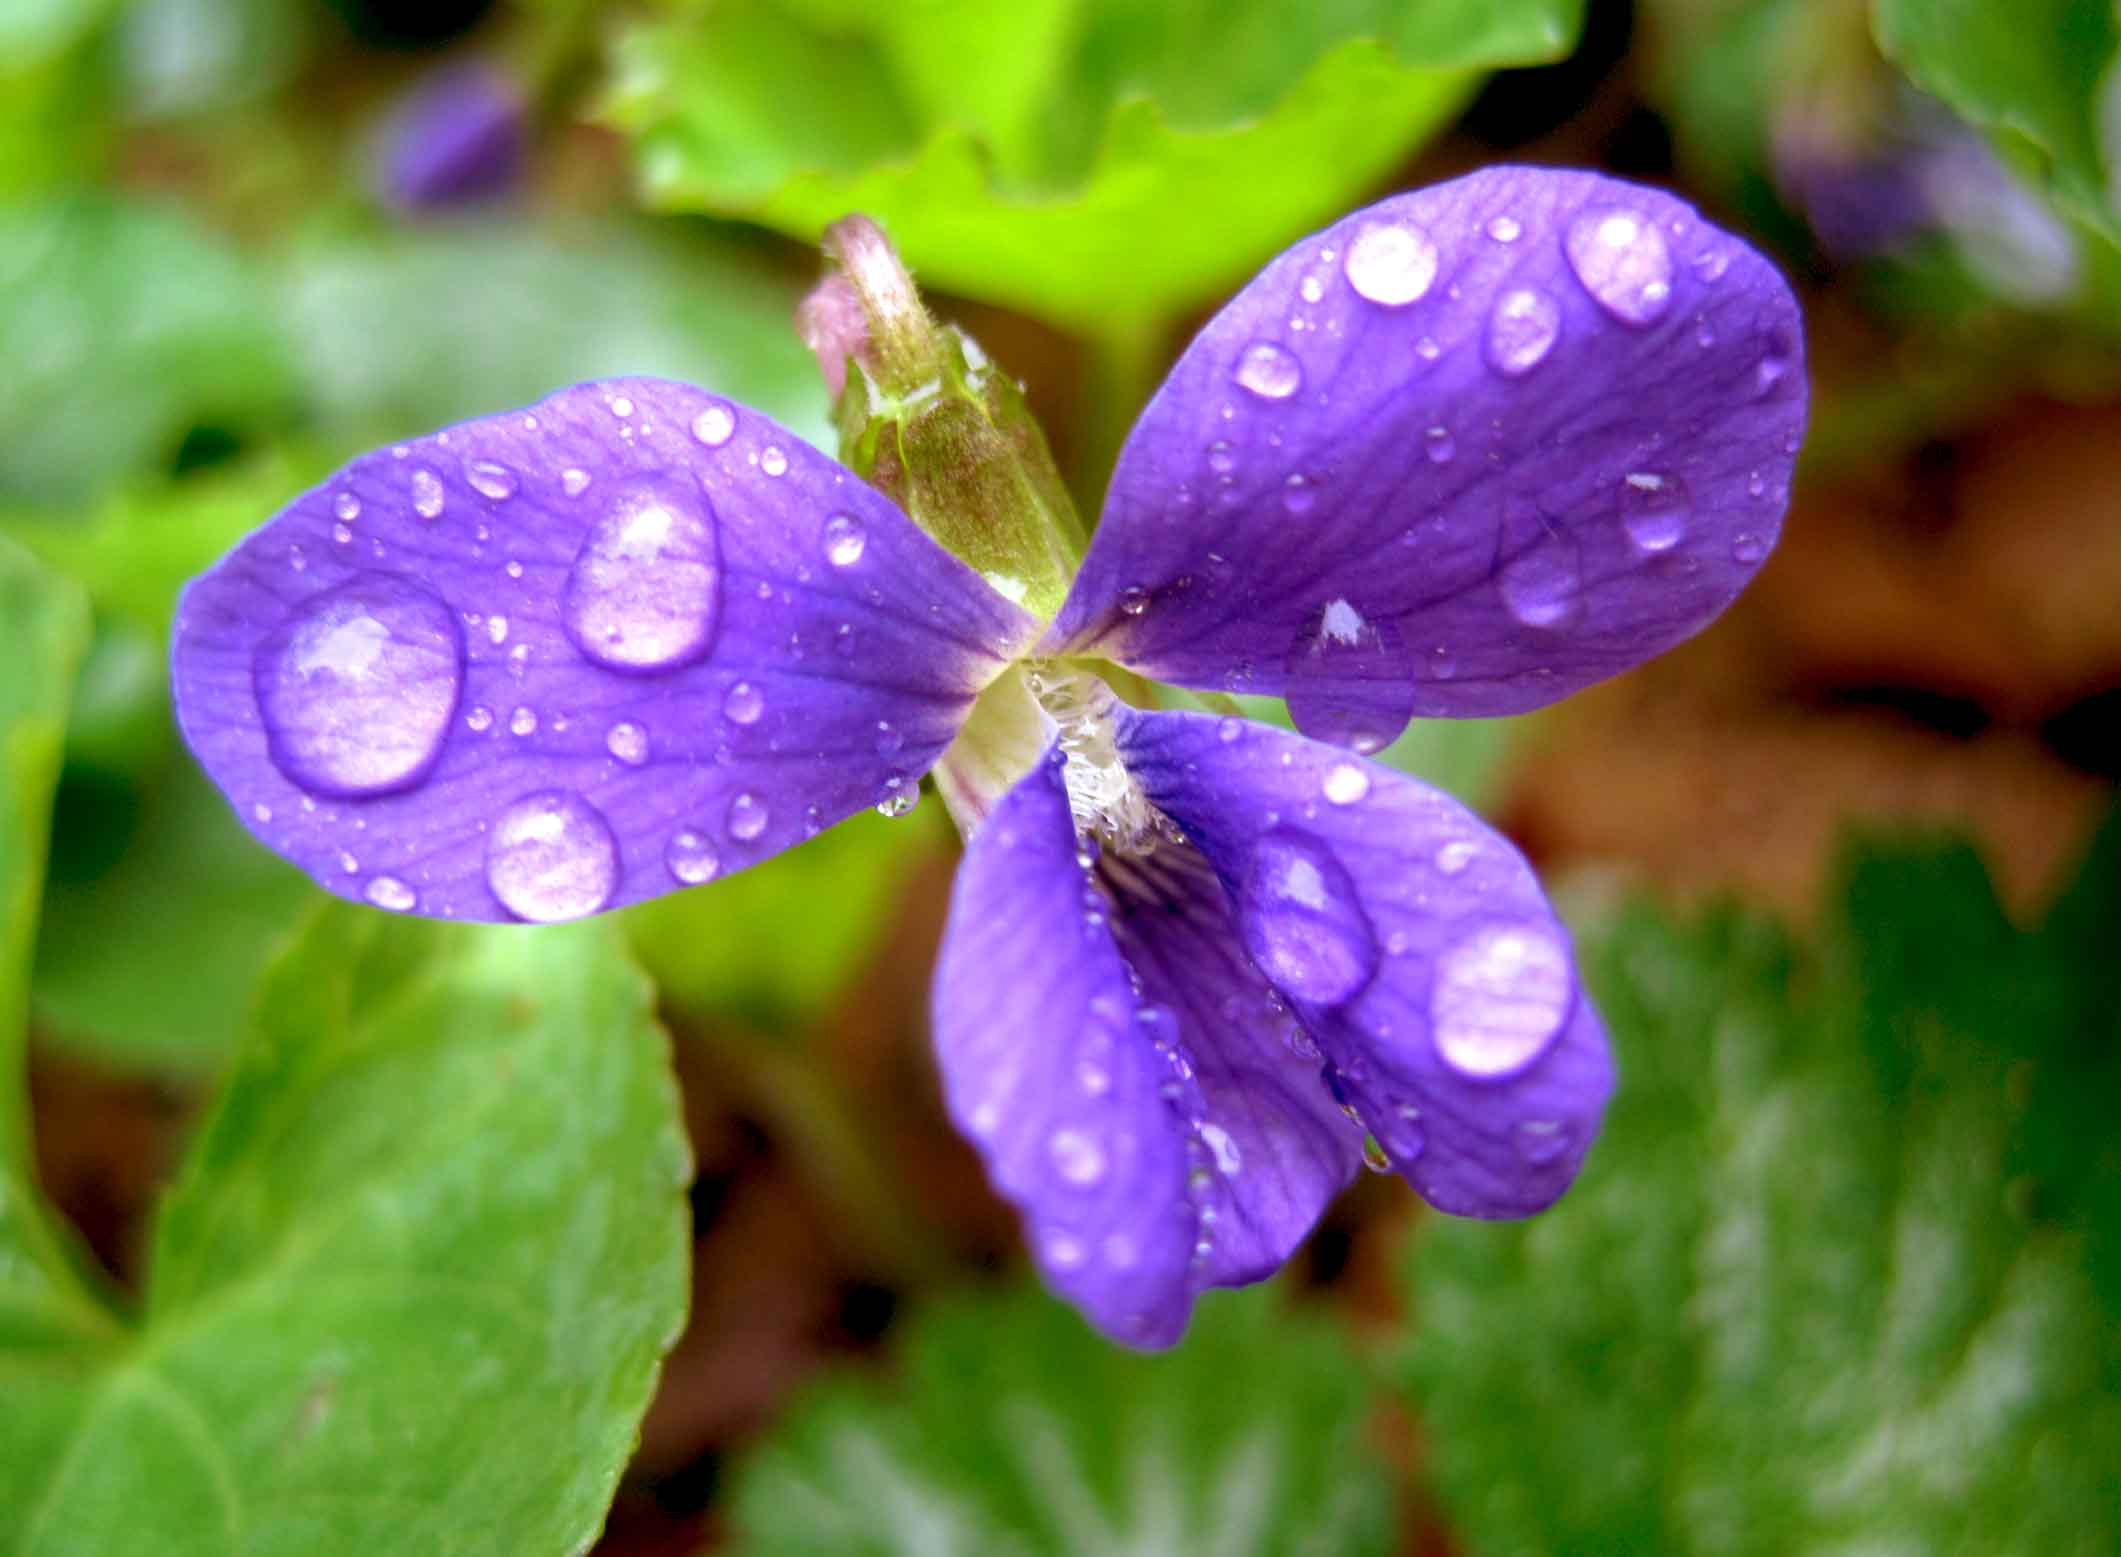violet: (155, 184, 1810, 1251)
